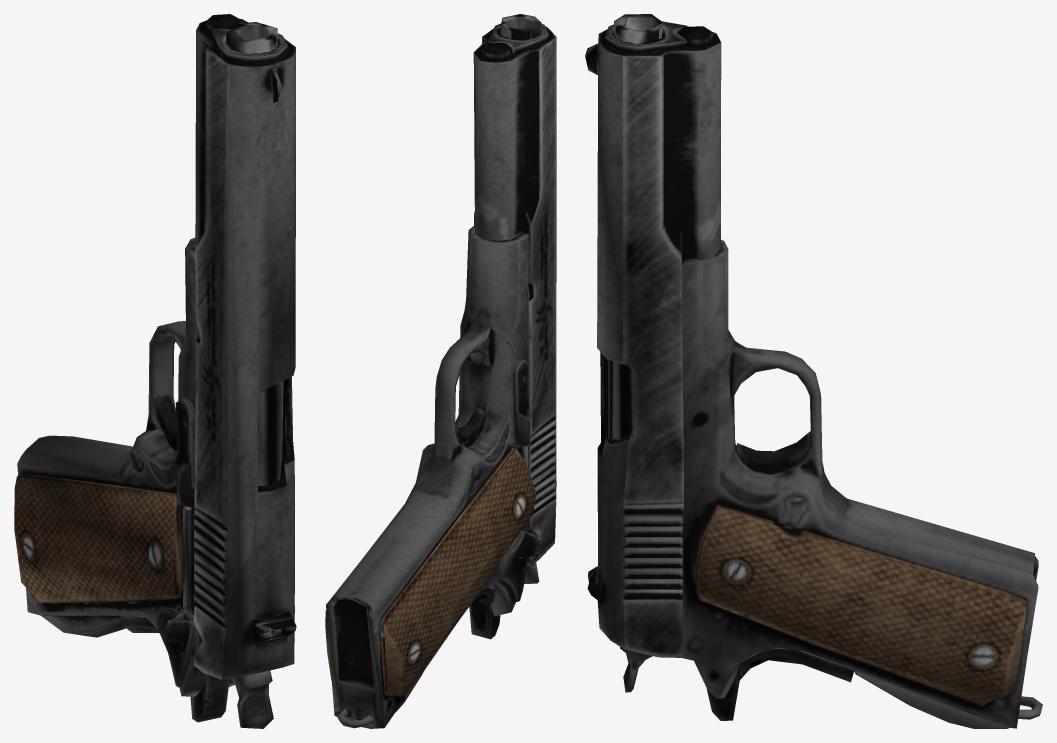
File: Handgun02NoMag.fbx
3 renders of one model, left to right at view 1: azimuth 30°, elevation 25°; view 2: azimuth 150°, elevation 25°; view 3: azimuth 270°, elevation 25°, orthographic. The views are drawn at different scales.
Parts seen in each view (by area): view 1: Handgun02; view 2: Handgun02; view 3: Handgun02.
Boxes of the visible parts, x1,y1,x2,y2 form: Handgun02: [14, 14, 296, 728]; Handgun02: [325, 14, 556, 728]; Handgun02: [585, 14, 1042, 728].
Size of the model in its own units: 0.0261 by 0.1707 by 0.1008.
